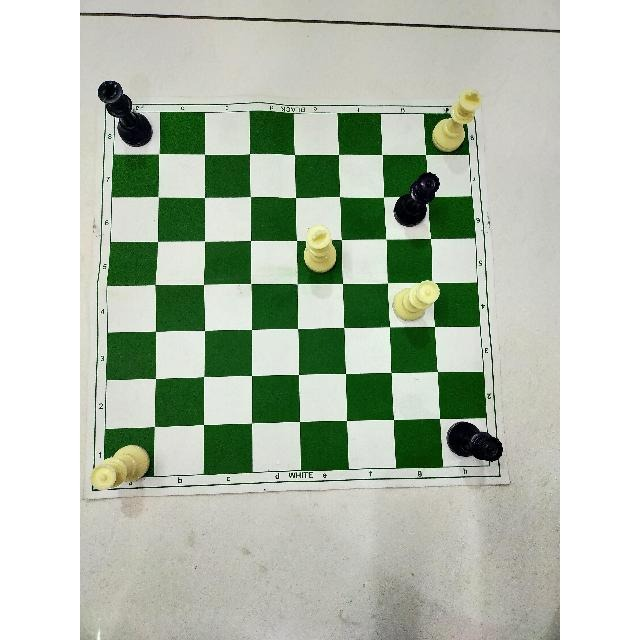black-king: (95, 73, 155, 149)
black-queen: (442, 413, 505, 471), (391, 167, 443, 233)
white-king: (430, 87, 484, 155), (298, 222, 343, 278)
white-queen: (87, 443, 153, 495), (390, 277, 442, 324)
